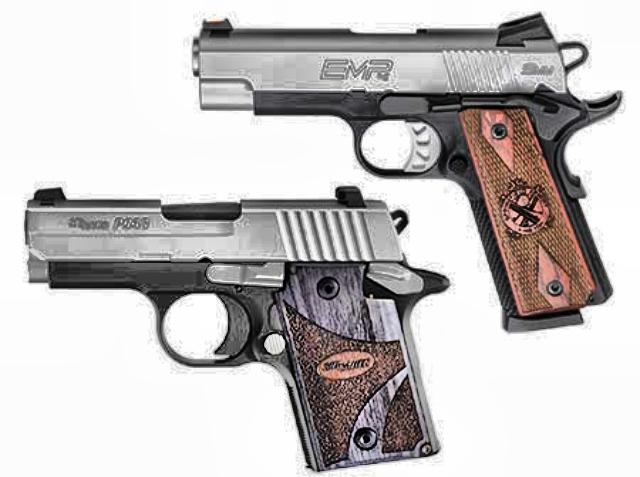pistol: (180, 12, 616, 330), (16, 188, 454, 474)
